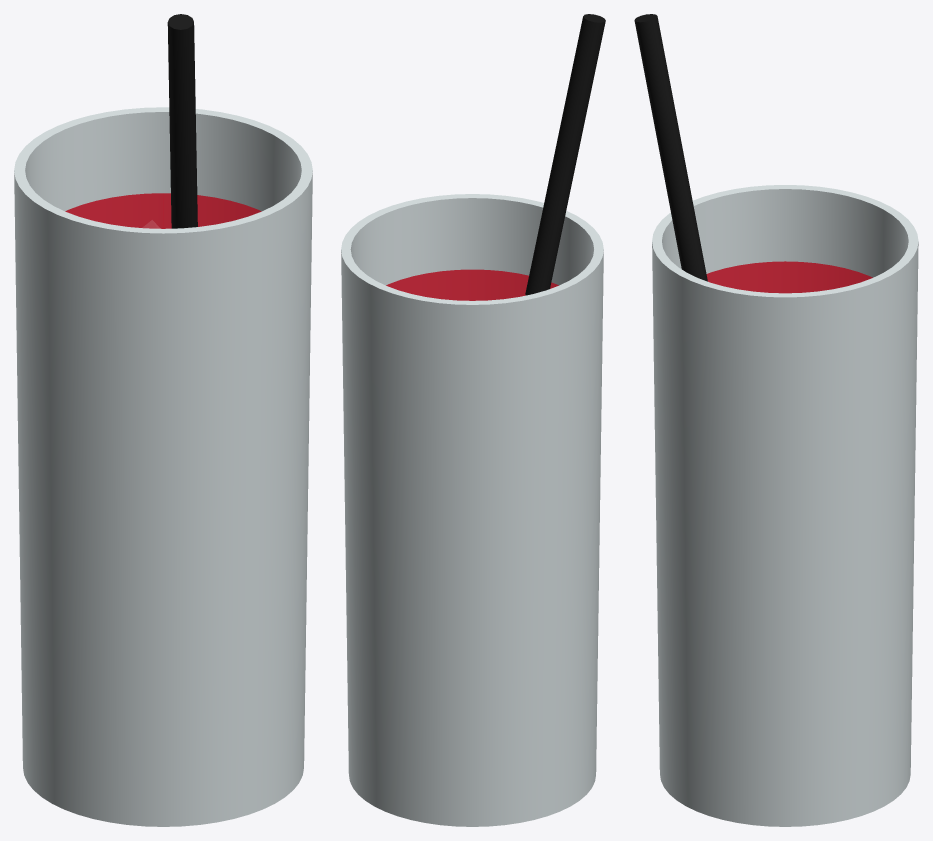
File: long_drink-vermelho.glb
The picture shows the model from 3 angles, left to right: view 1: azimuth 30°, elevation 25°; view 2: azimuth 150°, elevation 25°; view 3: azimuth 270°, elevation 25°; orthographic projection. The views are drawn at different scales.
Visible parts, largest first — view 1: long_drink-vermelho; view 2: long_drink-vermelho; view 3: long_drink-vermelho.
Boxes of the visible parts, x1=… form: long_drink-vermelho: x1=14, y1=14, x2=312, y2=826; long_drink-vermelho: x1=341, y1=14, x2=605, y2=826; long_drink-vermelho: x1=634, y1=14, x2=918, y2=826.
Bounding box in the file's own units: 0.068 × 0.206 × 0.0725.
